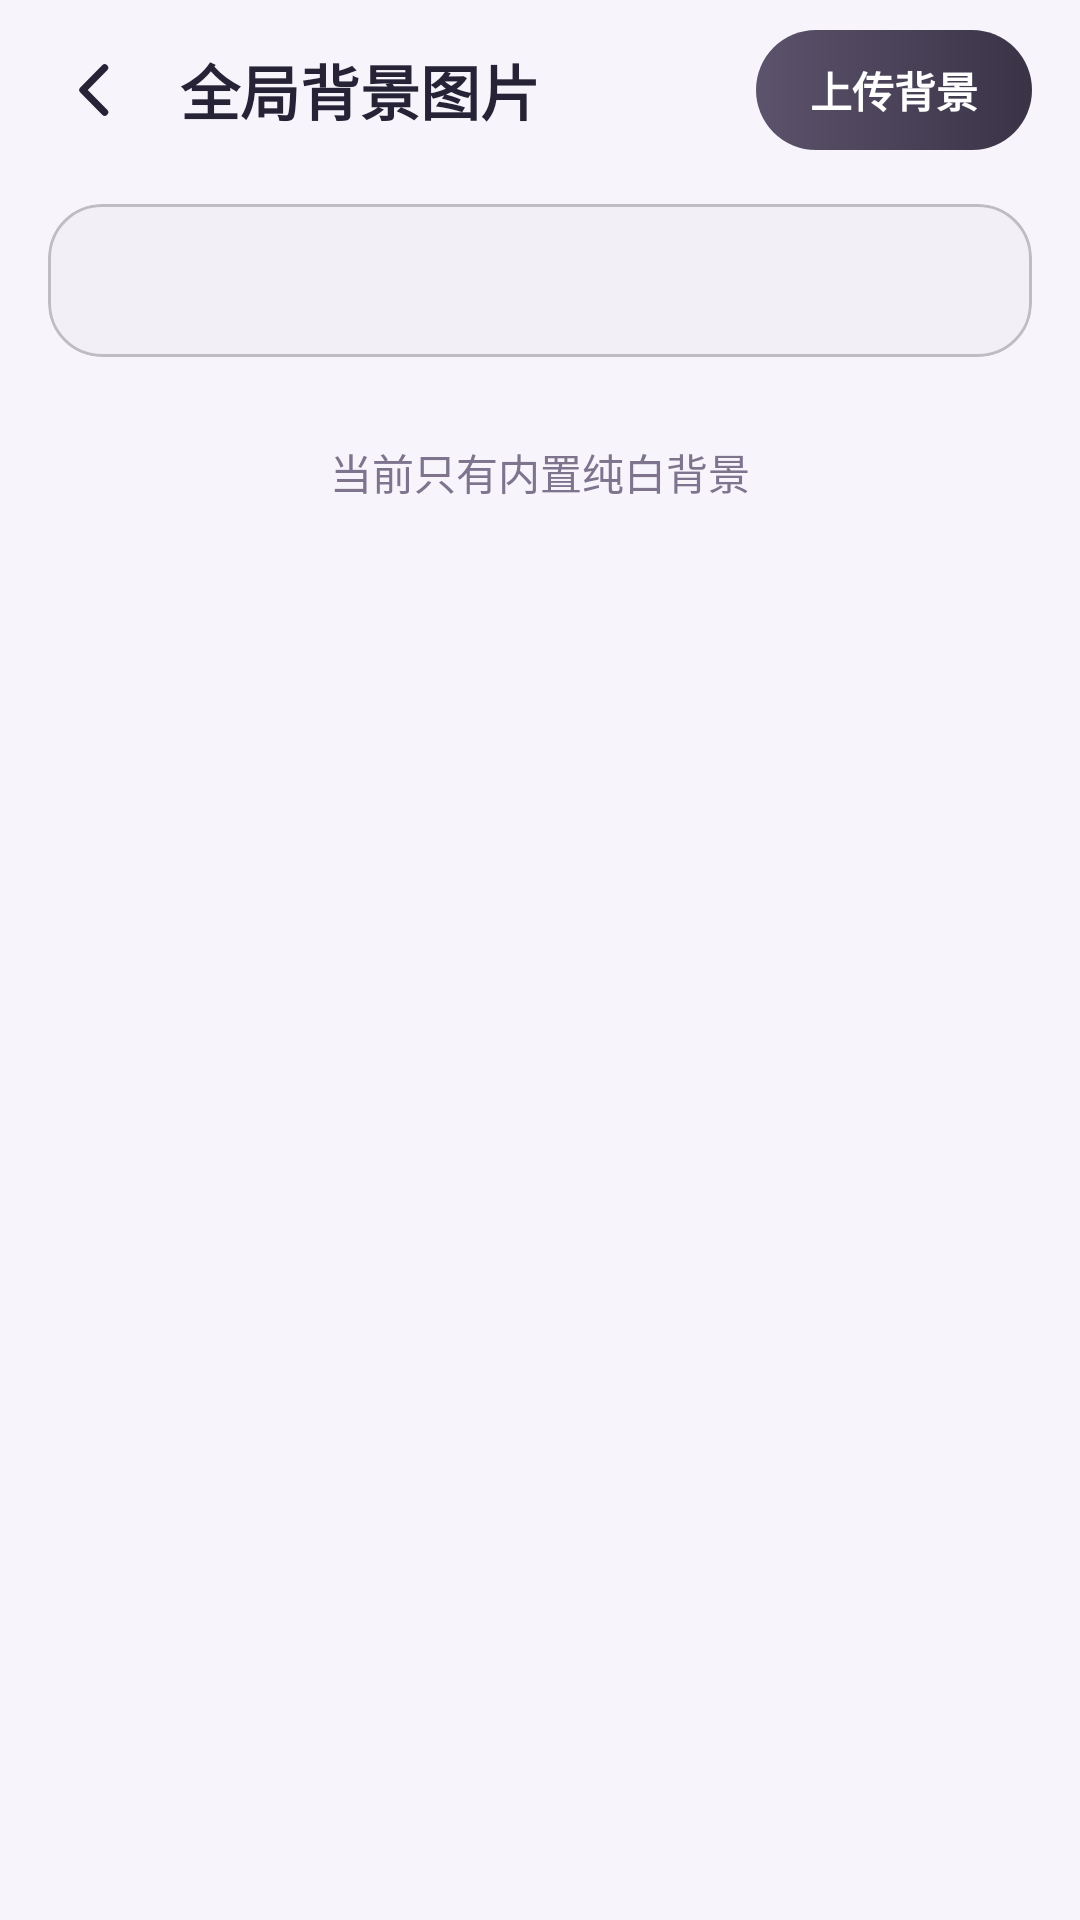

Screen size 1080×1920. Icon name, then its center in pixels as point (x, y):
返回: point (94, 90)
